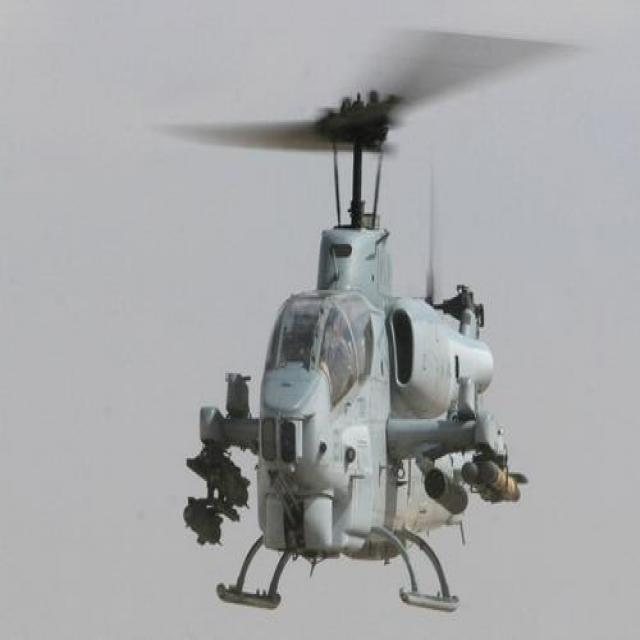MIL_HELO: (137, 15, 628, 634)
